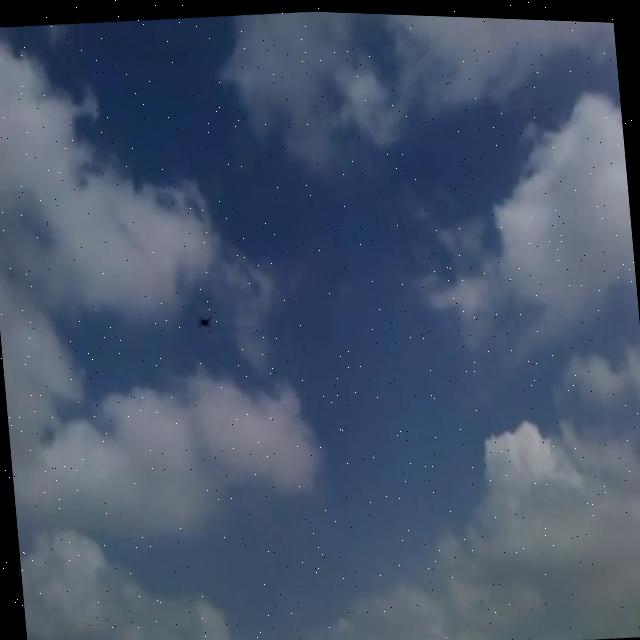drone: (194, 303, 214, 333)
